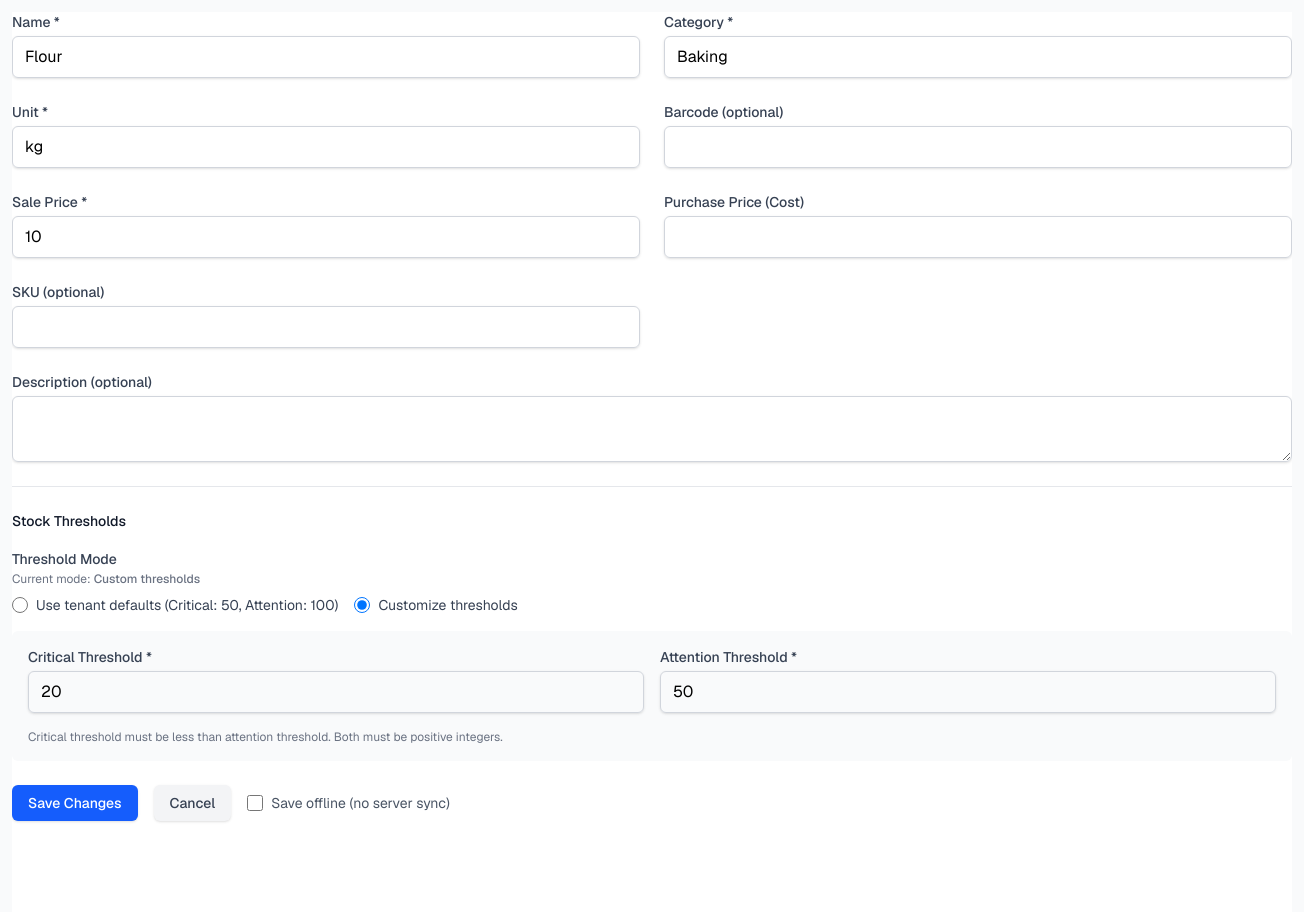
Test case: product threshold forms › asks confirmation before clearing custom thresholds in edit form
Click the radio button labelled "Use tenant defaults (Critical: 50, Attention: 100)": (20, 605) [12, 597, 28, 613]
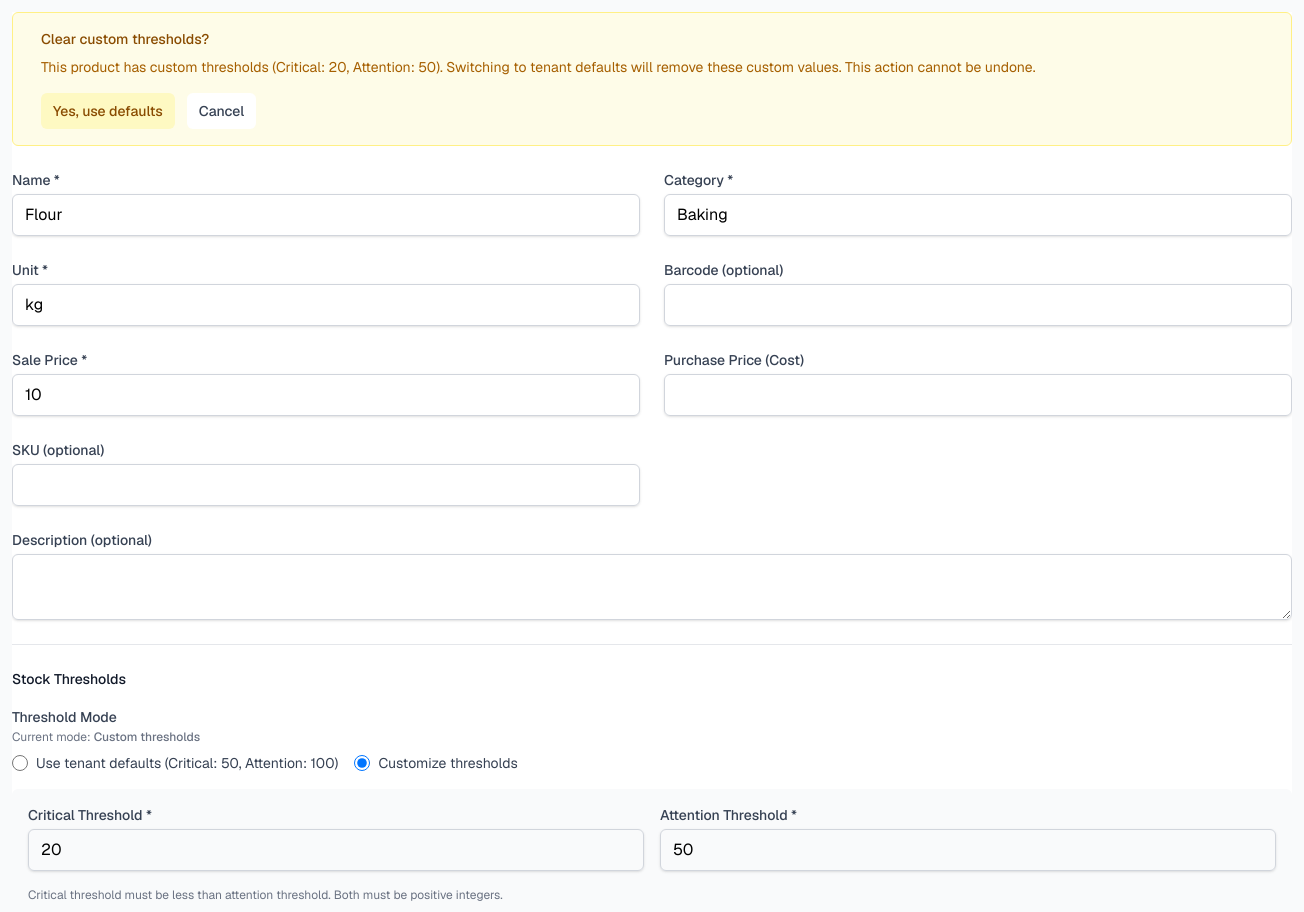
Now the heading "Clear custom thresholds?" is shown, box [41, 30, 209, 48]
